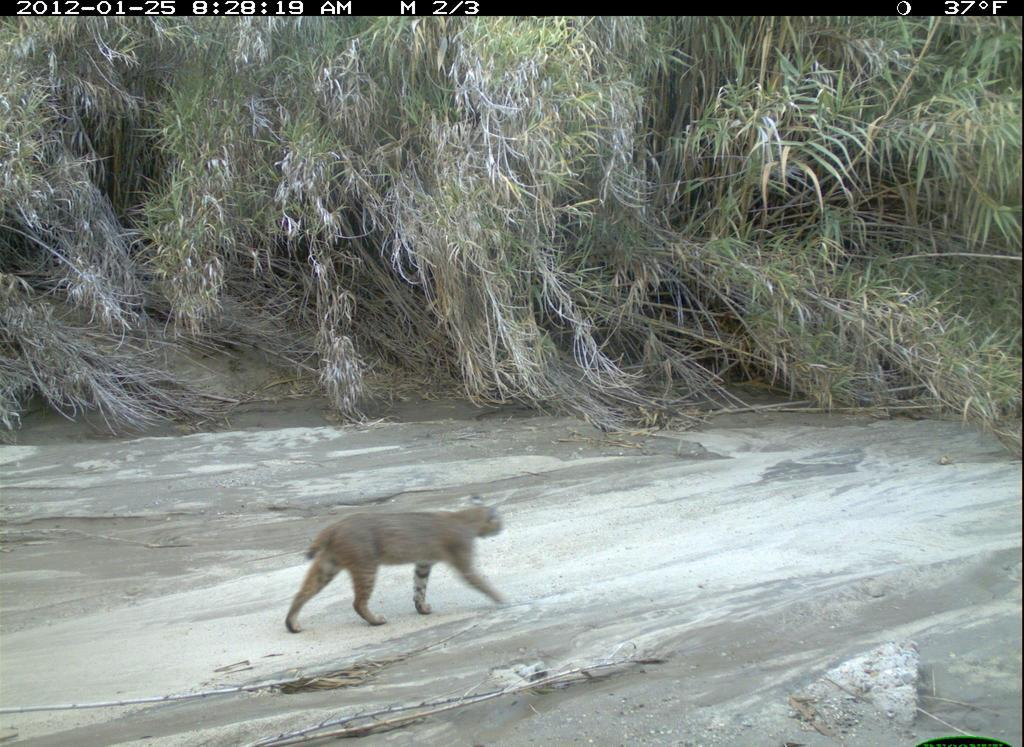bobcat: (277, 488, 520, 648)
